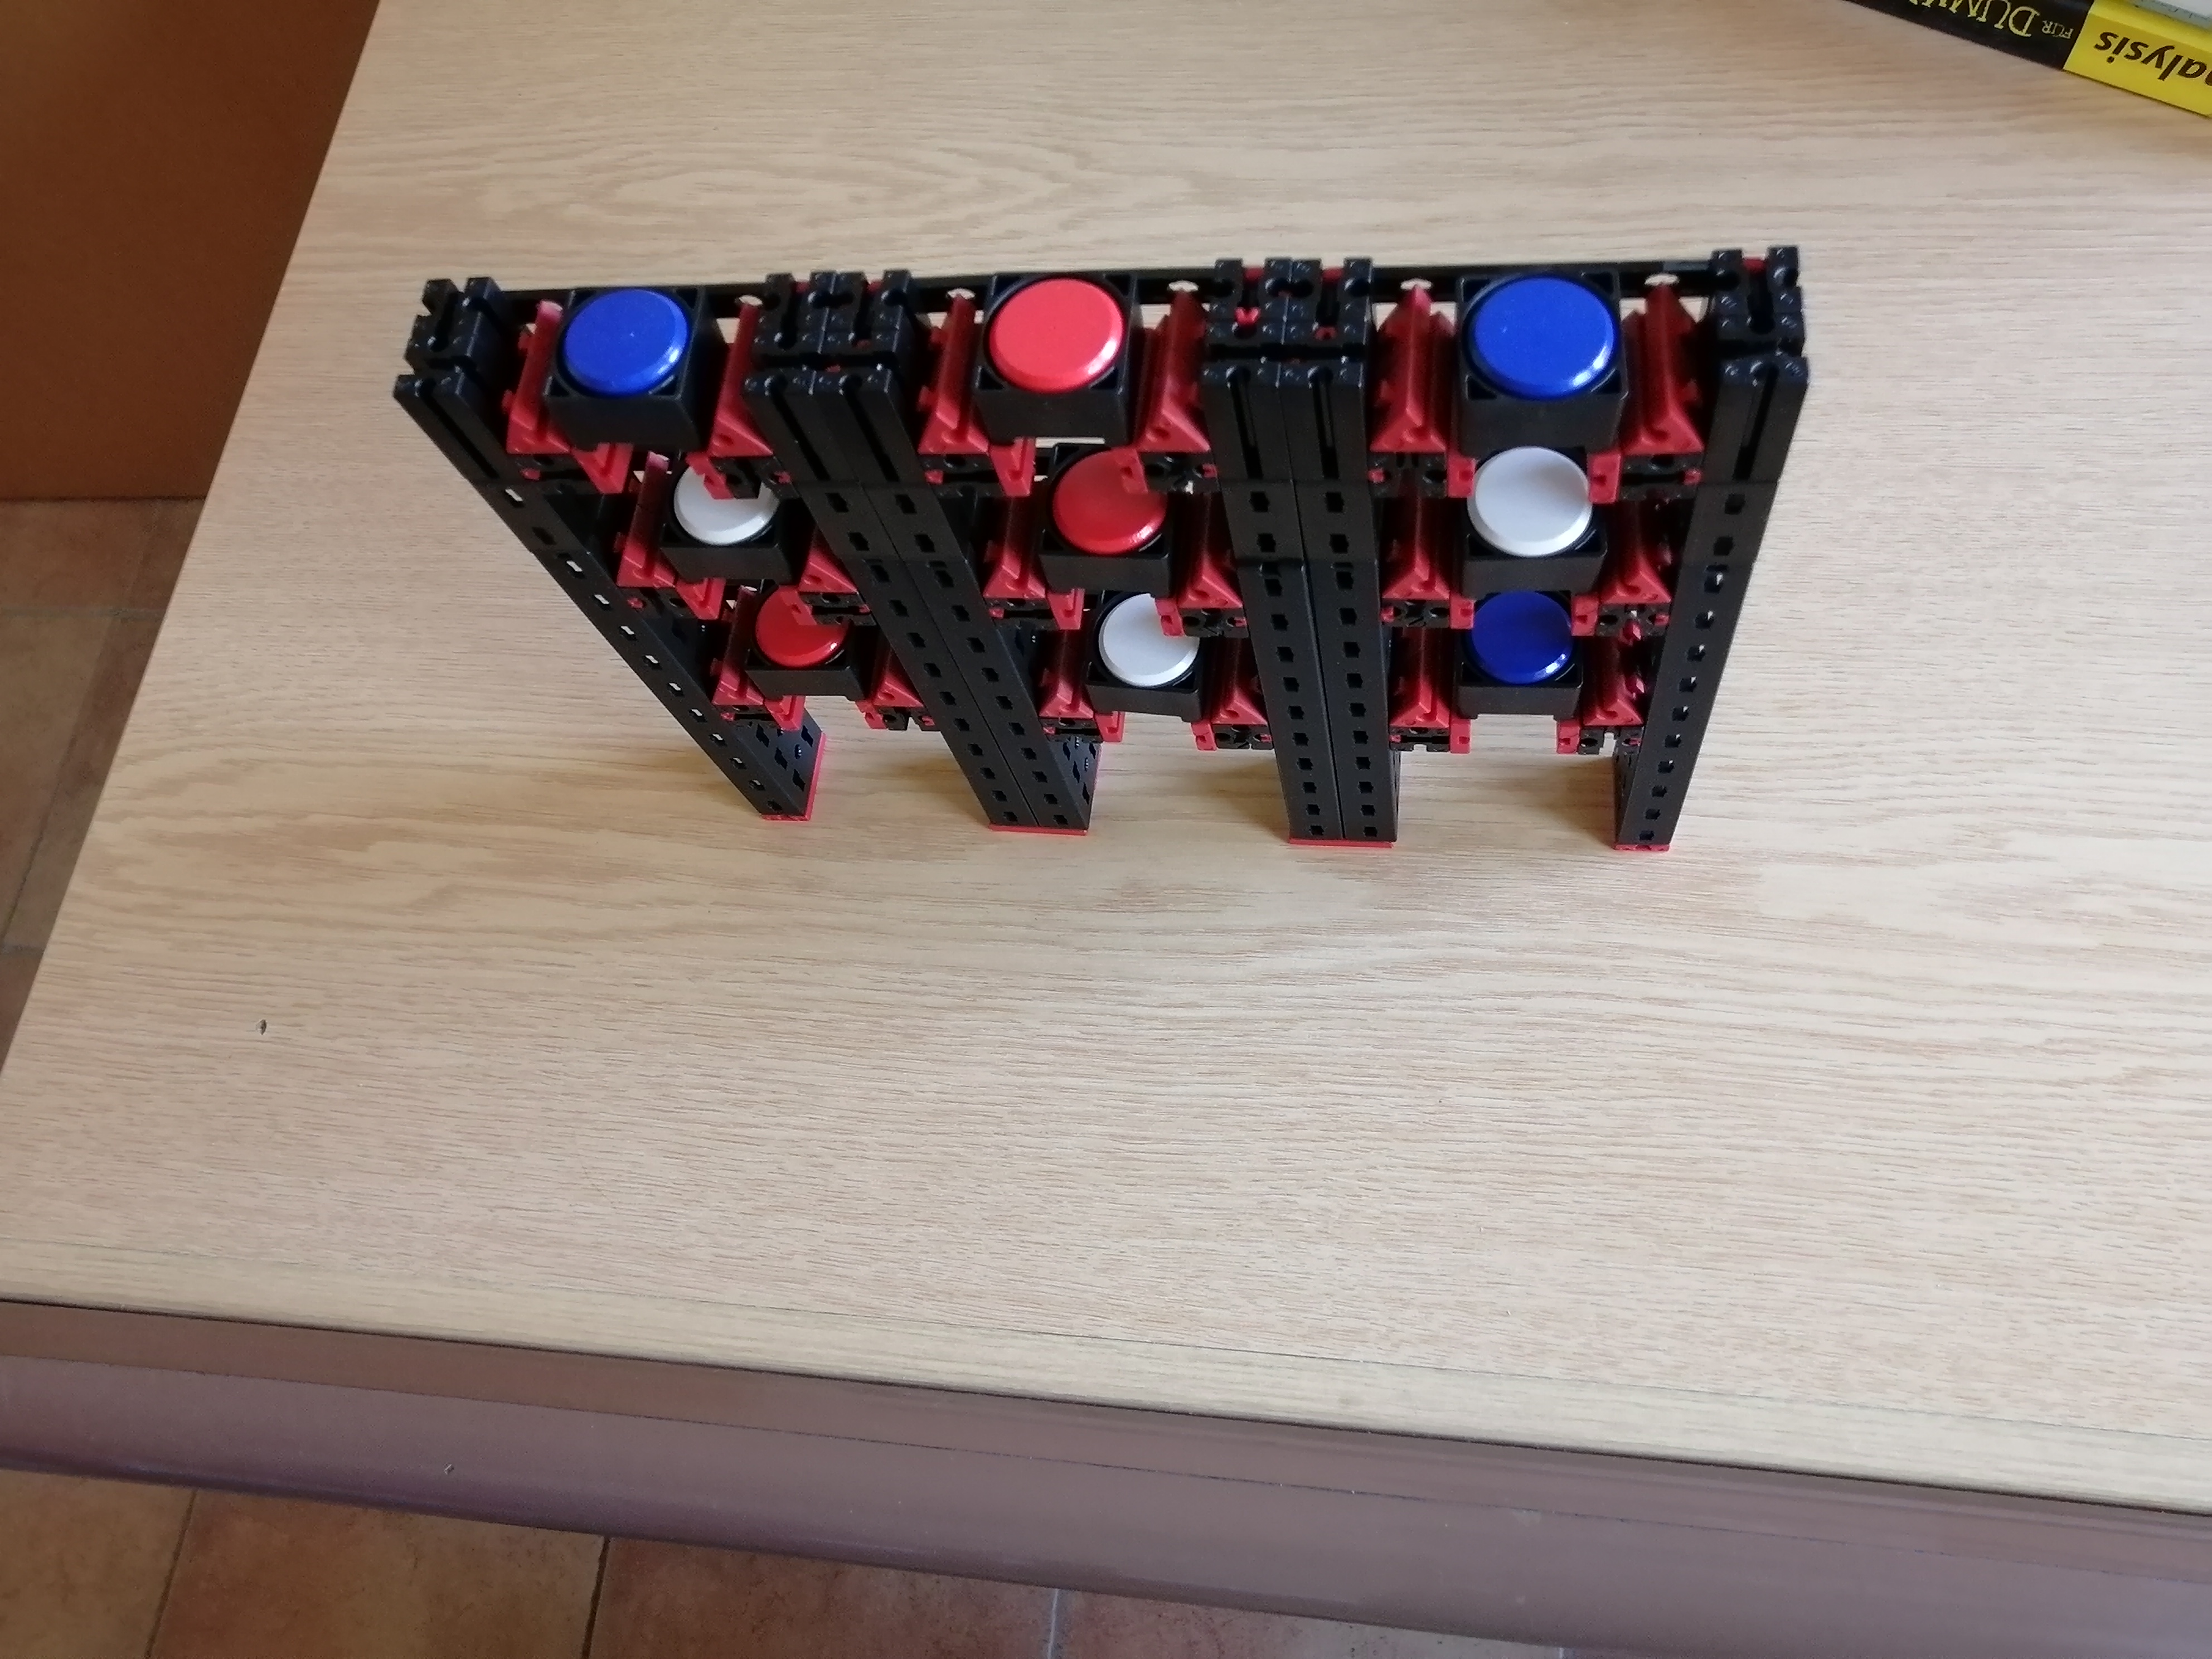Behaelter: (979, 270, 1139, 437), (1460, 288, 1625, 446), (550, 293, 714, 441), (1026, 486, 1188, 596), (1458, 504, 1616, 592), (662, 491, 806, 579), (1085, 634, 1224, 720), (1461, 640, 1597, 714), (737, 636, 869, 702)
WerkStueck: (1470, 284, 1615, 397), (989, 279, 1115, 385), (1474, 455, 1588, 559), (571, 293, 693, 389), (1047, 453, 1139, 559), (1475, 599, 1562, 683), (665, 493, 770, 554), (1106, 620, 1193, 690), (752, 620, 841, 669)
